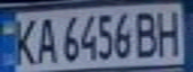4: (112, 8, 136, 60), (78, 11, 100, 61)
5: (97, 10, 118, 61)
6: (57, 12, 81, 62)
A: (30, 14, 60, 65)
B: (133, 7, 163, 58)
H: (151, 7, 187, 56)
K: (6, 15, 42, 66)
